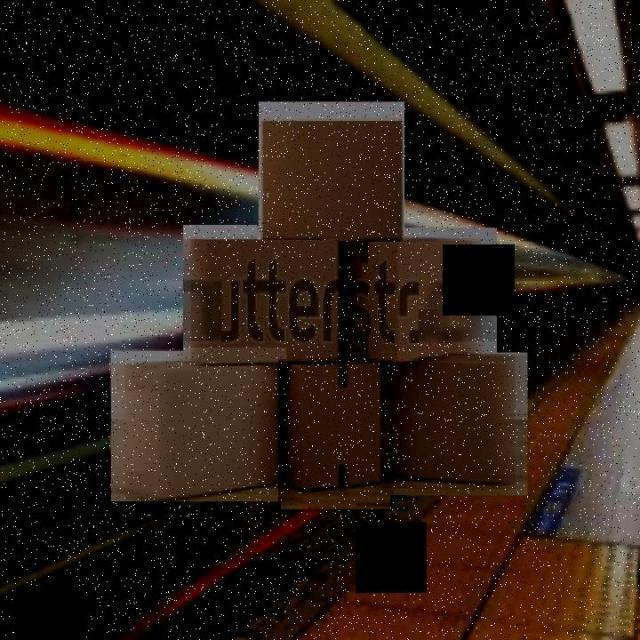box: (110, 348, 286, 506), (181, 225, 345, 375), (338, 226, 500, 376), (381, 351, 532, 498), (257, 100, 408, 240), (278, 359, 394, 512)
